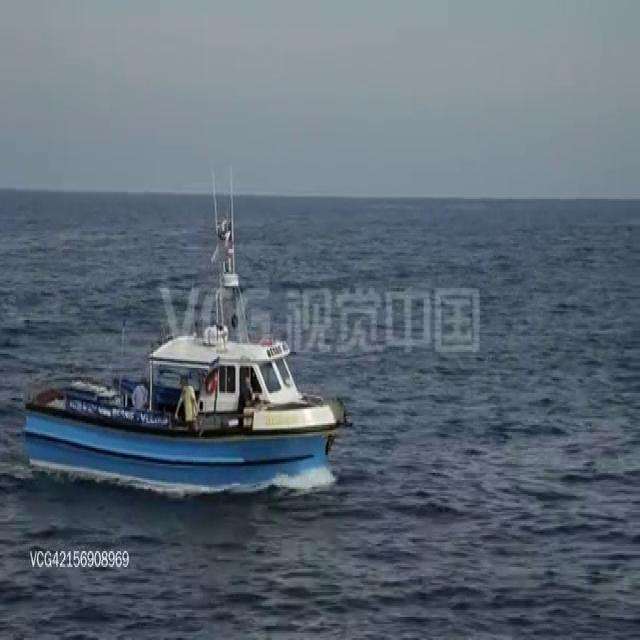houseboat: (12, 244, 345, 490)
